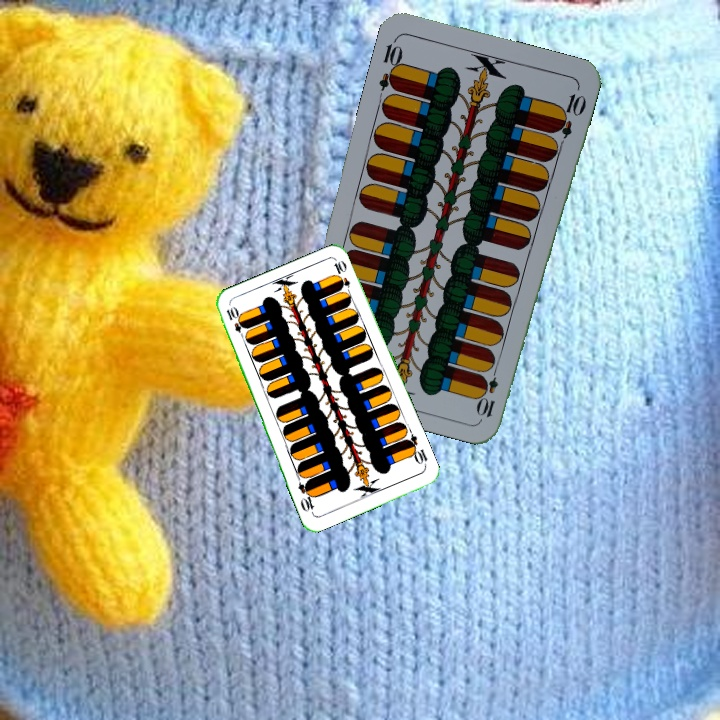E10: (375, 34, 406, 93), (475, 361, 501, 420), (401, 431, 430, 470), (222, 303, 249, 342)
